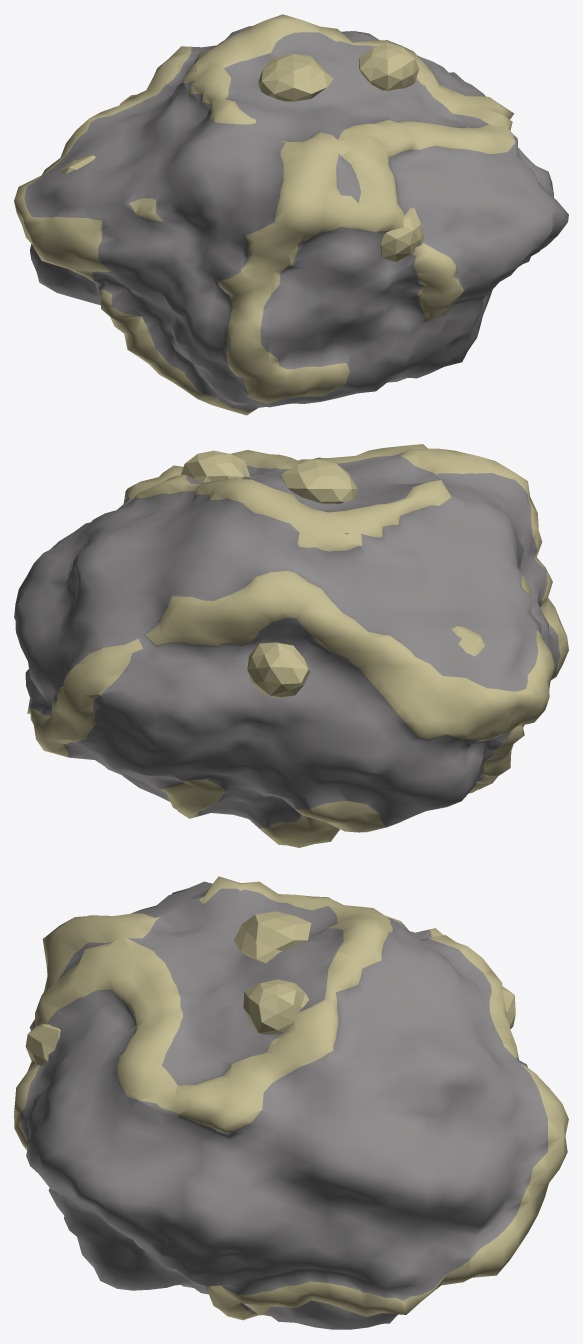
Rendered from pentlandite_surface.glb.
3 views of the same model, one above another, from view 1: azimuth 30°, elevation 25°; view 2: azimuth 150°, elevation 25°; view 3: azimuth 270°, elevation 25° (orthographic). The views are drawn at different scales.
Visible parts, largest first — view 1: pentlandite_surface; view 2: pentlandite_surface; view 3: pentlandite_surface.
Boxes of the visible parts, bbox=[...] form: pentlandite_surface: bbox=[14, 14, 568, 415]; pentlandite_surface: bbox=[14, 444, 568, 847]; pentlandite_surface: bbox=[14, 876, 568, 1329].
Bounding box in the file's own units: 1.4 × 0.9485 × 1.25.
